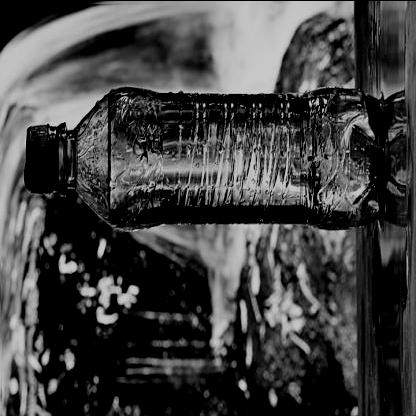bottle: (12, 62, 393, 242)
